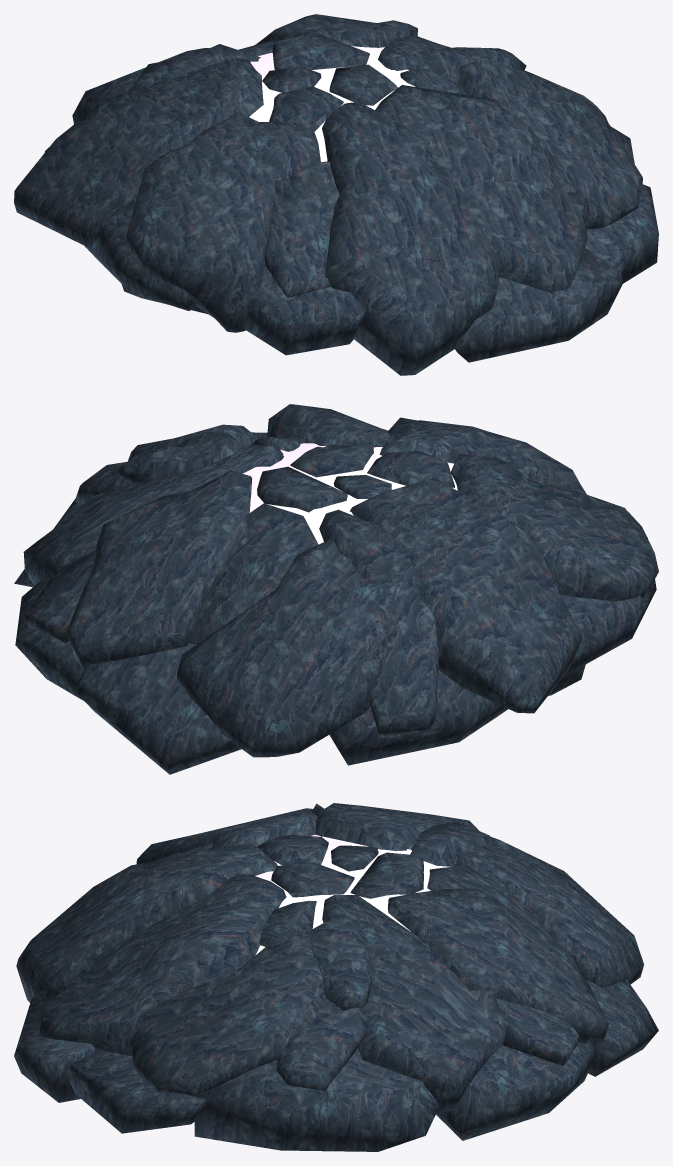
3 renders of one model, top to bottom at view 1: azimuth 30°, elevation 25°; view 2: azimuth 150°, elevation 25°; view 3: azimuth 270°, elevation 25°, orthographic. The views are drawn at different scales.
Visible parts, largest first — view 1: SM_Rune_Essence_Geyser_LOD0; view 2: SM_Rune_Essence_Geyser_LOD0; view 3: SM_Rune_Essence_Geyser_LOD0.
Boxes of the visible parts, box(x1,y1,x2,y2) form: SM_Rune_Essence_Geyser_LOD0: box(14, 14, 658, 375); SM_Rune_Essence_Geyser_LOD0: box(14, 404, 658, 774); SM_Rune_Essence_Geyser_LOD0: box(14, 803, 658, 1151).
Size of the model in its own units: 4.98 by 1.74 by 5.31.
Materials: 2 (1 with a texture image).
